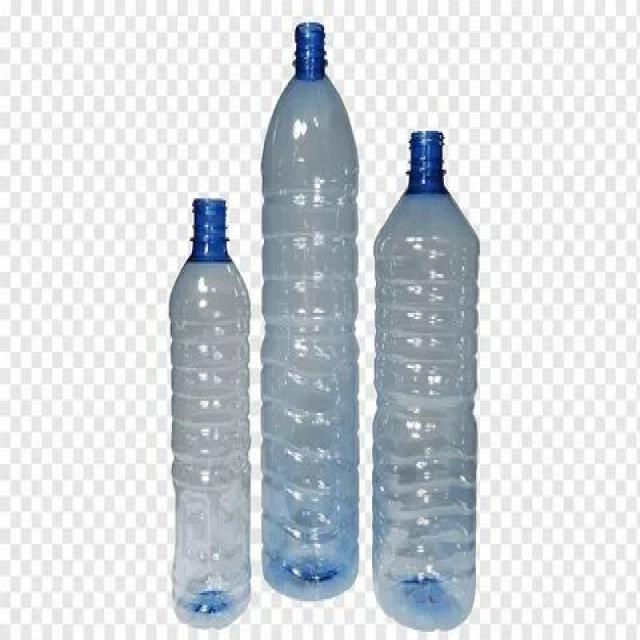blue: (262, 24, 360, 602), (376, 130, 477, 630), (168, 197, 248, 632)
